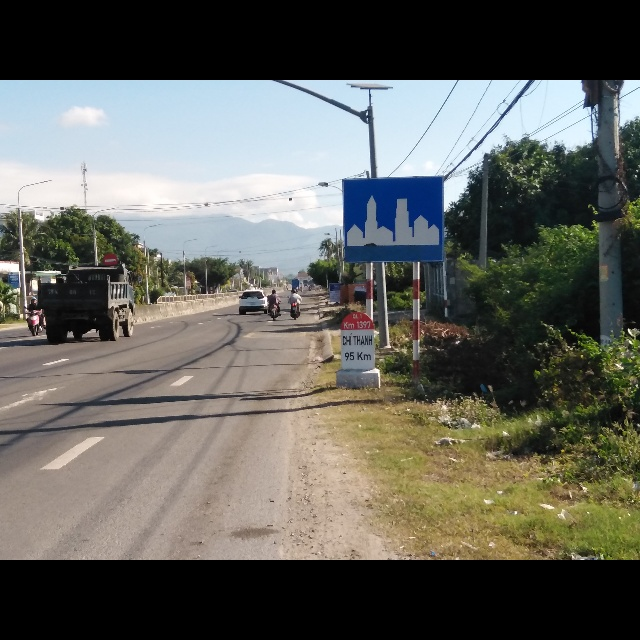Khu đông dân cư: (342, 176, 447, 263)
